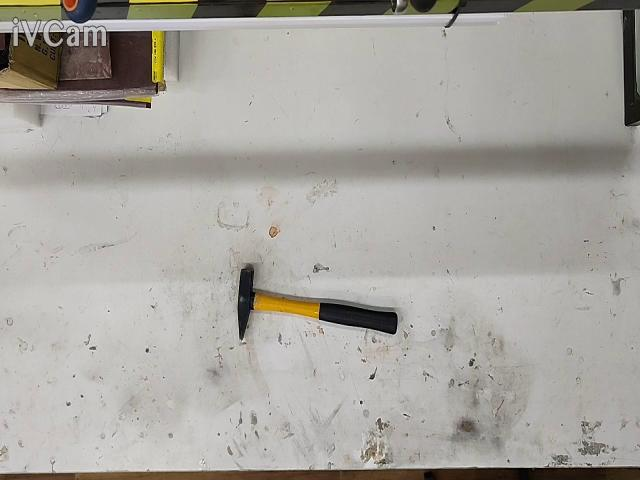Hammer: (238, 269, 398, 342)
